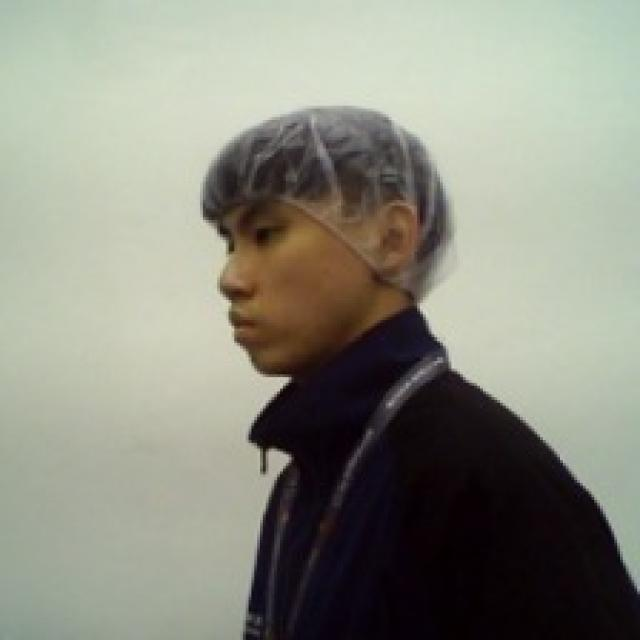gloves: (196, 99, 462, 290)
no_hairnet: (212, 215, 422, 381)
